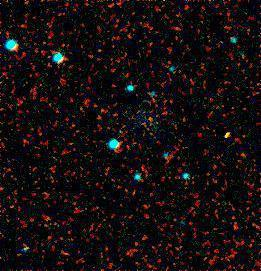star: (212, 119, 242, 149)
